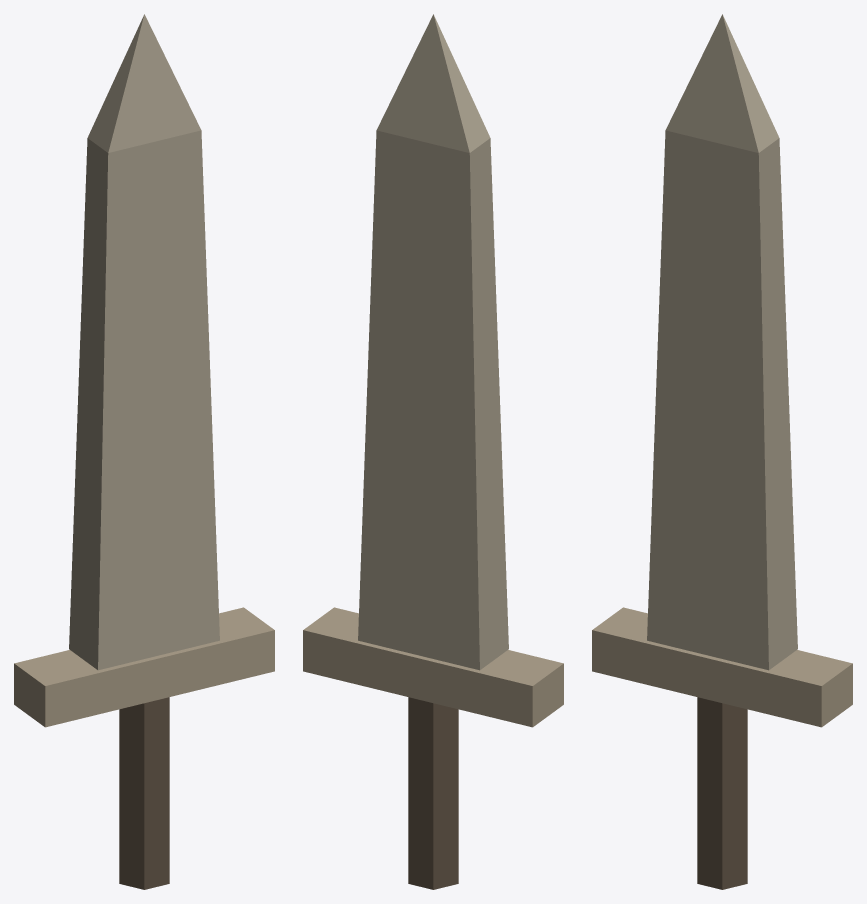
The model's file is Pawn_Sword.fbx.
3 renders of one model, left to right at view 1: azimuth 30°, elevation 25°; view 2: azimuth 150°, elevation 25°; view 3: azimuth 330°, elevation 25°, orthographic.
Visible parts, largest first — view 1: Pawn_Sword; view 2: Pawn_Sword; view 3: Pawn_Sword.
Boxes of the visible parts, left/top/right/bottom form: Pawn_Sword: left=14, top=14, right=274, bottom=889; Pawn_Sword: left=303, top=14, right=563, bottom=889; Pawn_Sword: left=592, top=14, right=852, bottom=889.
Size of the model in its own units: 0.32 by 1.15 by 0.075.
